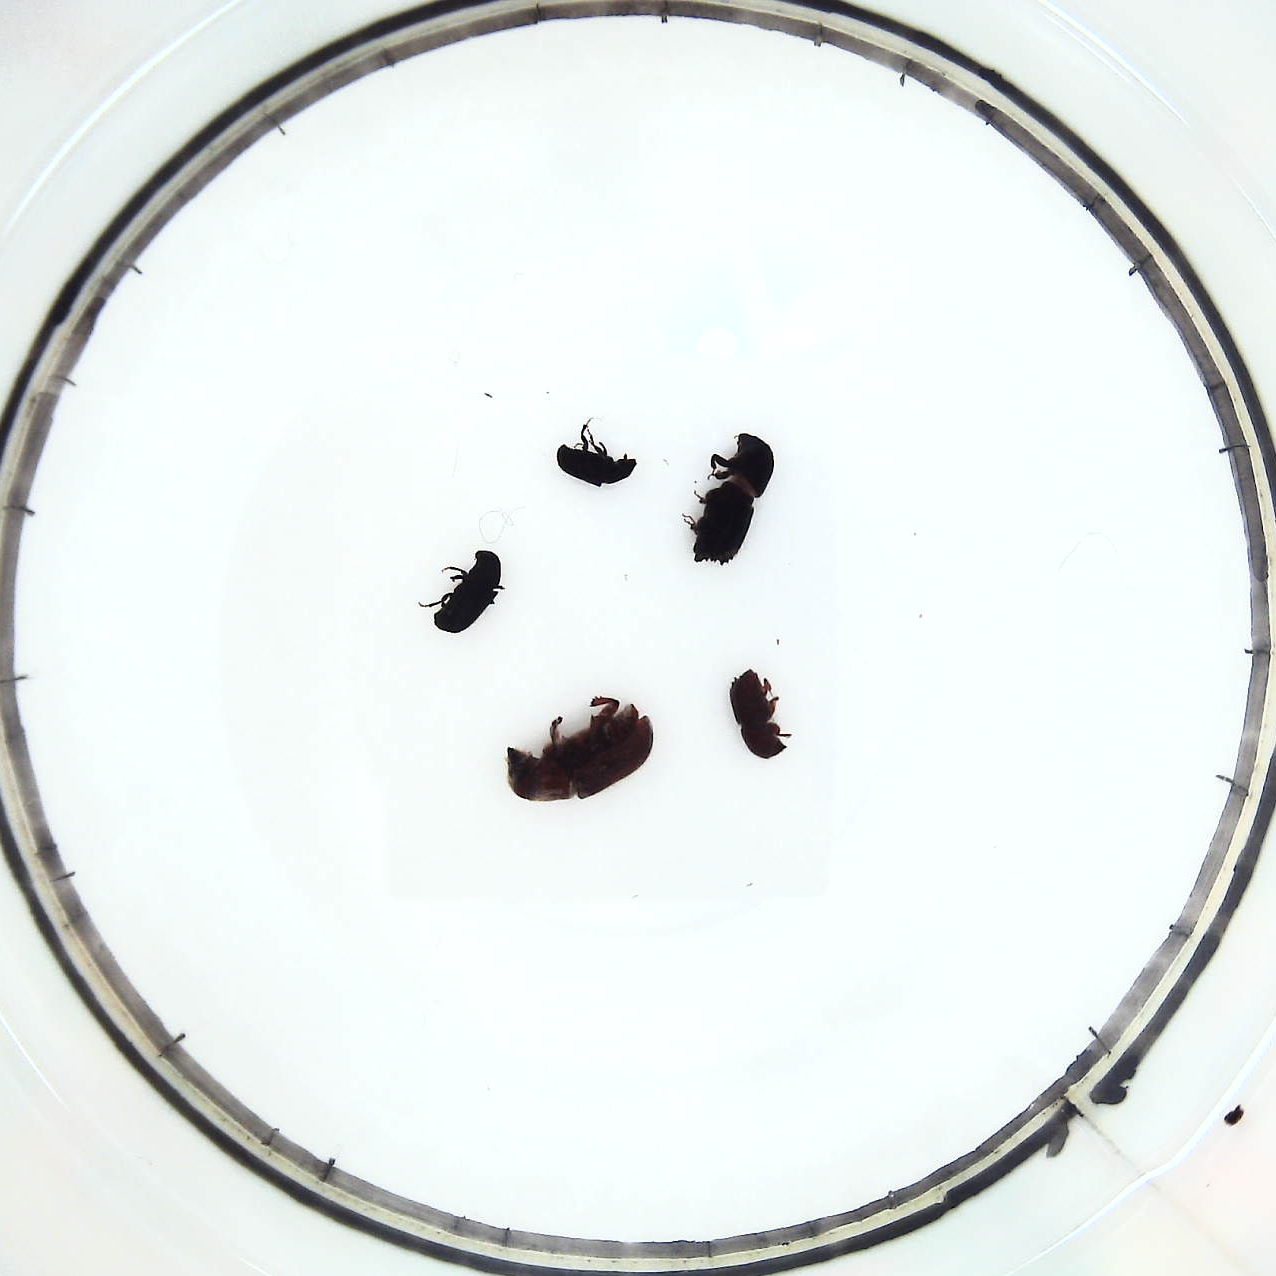Boerner: (681, 427, 778, 566)
Leconte: (500, 685, 661, 812)
armandi: (419, 539, 508, 642)
coleoptera: (552, 419, 642, 493)
linnaeus: (720, 663, 796, 768)
